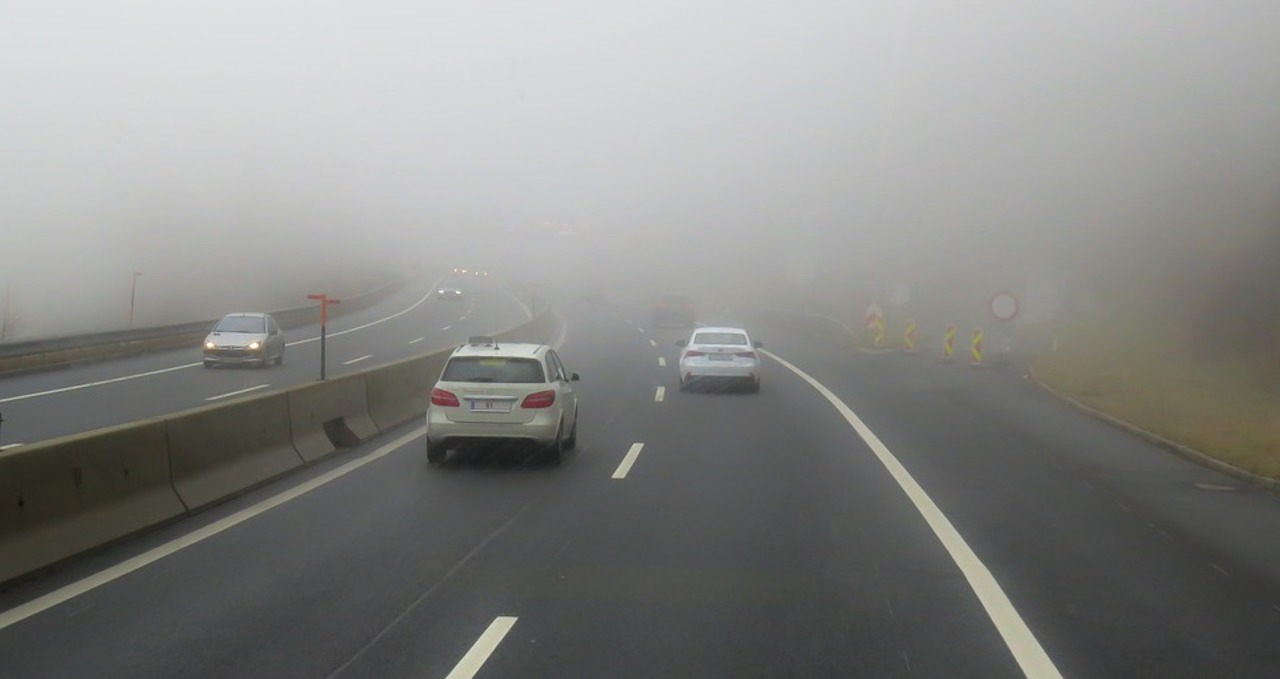car: (425, 341, 584, 469), (677, 325, 759, 393), (201, 311, 286, 368), (650, 291, 693, 328), (436, 279, 465, 300)
